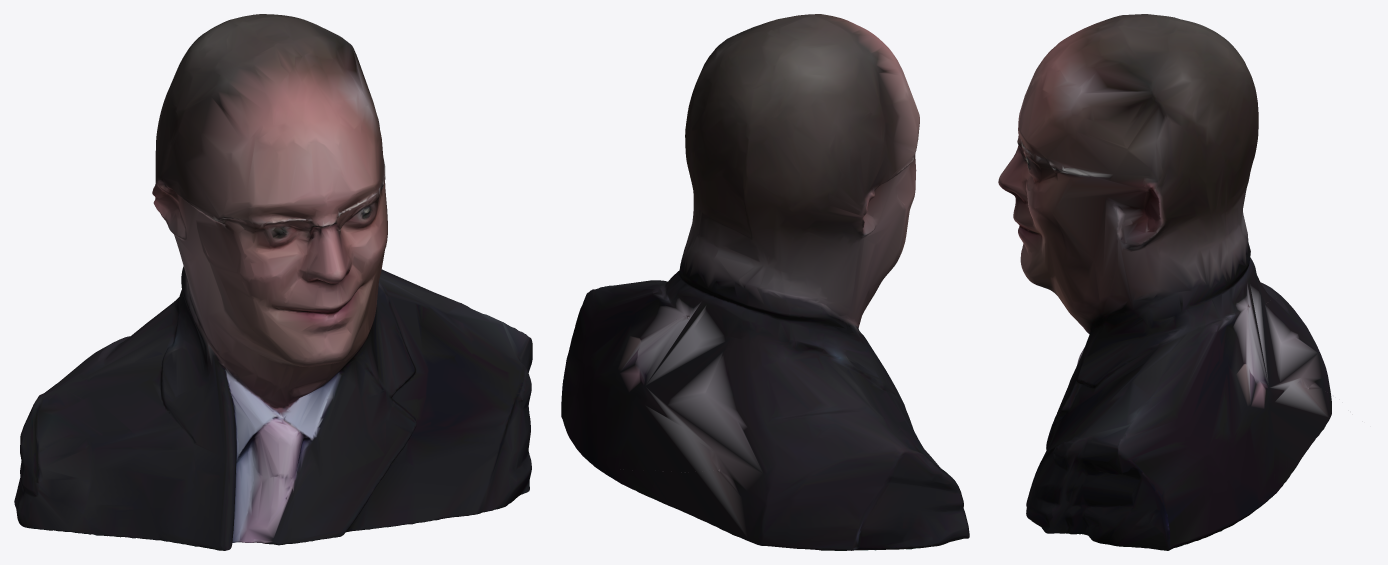
Rendered from Mr_Loyd.glb.
3 views of the same model, side by side, from view 1: azimuth 30°, elevation 25°; view 2: azimuth 150°, elevation 25°; view 3: azimuth 270°, elevation 25° (orthographic). The views are drawn at different scales.
Parts seen in each view (by area): view 1: geometry_0; view 2: geometry_0; view 3: geometry_0.
Part boxes in pixels (box(x1,y1,x2,y2)): geometry_0: box(14, 14, 532, 550); geometry_0: box(561, 14, 969, 550); geometry_0: box(998, 14, 1331, 550).
Bounding box in the file's own units: 8.69 × 8.45 × 6.8.
